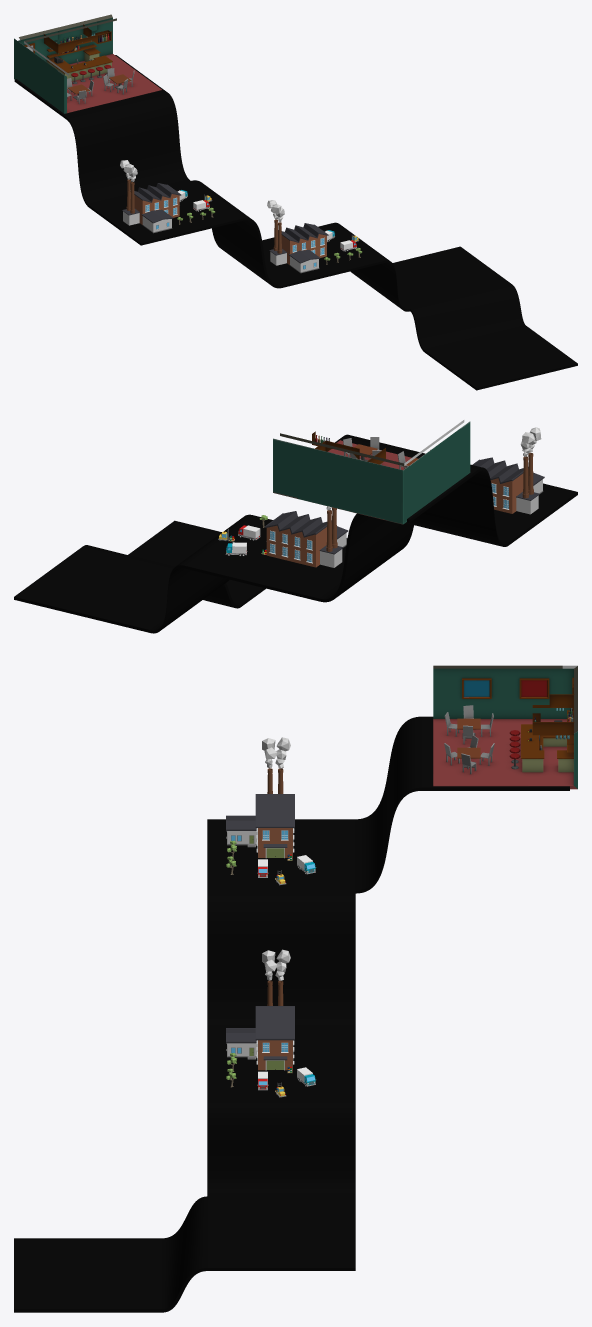
File: rohitoffice.glb
3 views of the same model, one above another, from view 1: azimuth 30°, elevation 25°; view 2: azimuth 150°, elevation 25°; view 3: azimuth 270°, elevation 25° (orthographic). The views are drawn at different scales.
Visible parts, largest first — view 1: Cube, 01_bar.001, 03_factory.001, 02_factory.001; view 2: Cube, 01_bar.001, 03_factory.001, 02_factory.001; view 3: Cube, 01_bar.001, 02_factory.001, 03_factory.001.
Part boxes in pixels (left/top/right/bottom): Cube: left=14, top=55, right=577, bottom=390; 01_bar.001: left=14, top=14, right=161, bottom=113; 03_factory.001: left=267, top=200, right=362, bottom=273; 02_factory.001: left=120, top=160, right=215, bottom=233; Cube: left=14, top=434, right=577, bottom=633; 01_bar.001: left=273, top=420, right=470, bottom=524; 03_factory.001: left=218, top=506, right=348, bottom=567; 02_factory.001: left=472, top=427, right=544, bottom=514; Cube: left=14, top=716, right=569, bottom=1312; 01_bar.001: left=433, top=665, right=577, bottom=789; 02_factory.001: left=226, top=737, right=316, bottom=885; 03_factory.001: left=226, top=949, right=316, bottom=1097.
Bounding box in the file's own units: 10.38 × 7.31 × 9.52.
Materials: 67 (2 with a texture image).
